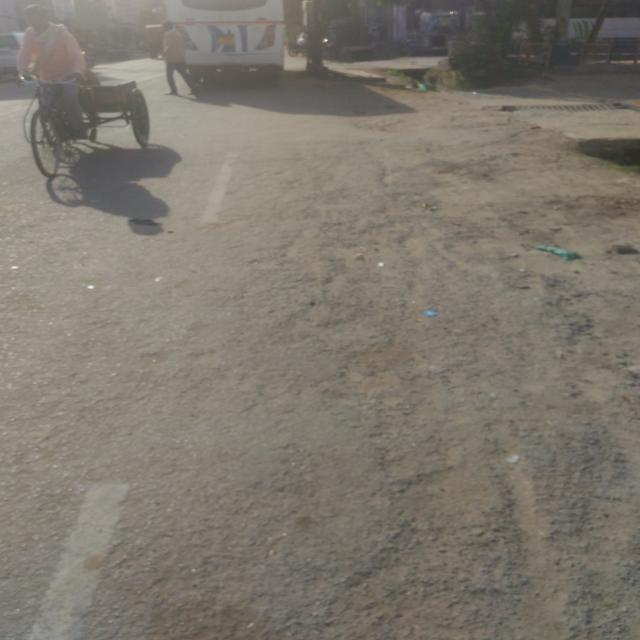Bus: (142, 9, 341, 86)
